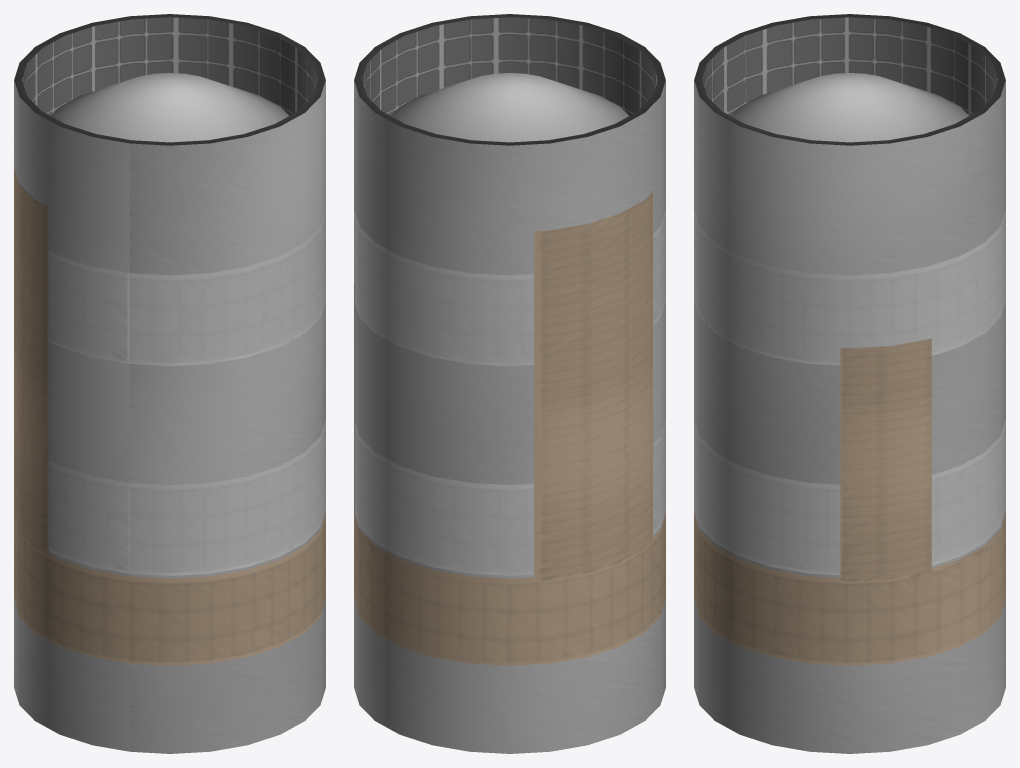
The model's file is TITAN_III_A_2.obj.
3 views of the same model, side by side, from view 1: azimuth 30°, elevation 25°; view 2: azimuth 150°, elevation 25°; view 3: azimuth 270°, elevation 25° (orthographic).
Visible parts, largest first — view 1: Cylinder1; view 2: Cylinder1; view 3: Cylinder1.
Part boxes in pixels (box(x1,y1,x2,y2)): Cylinder1: box(14, 14, 325, 753); Cylinder1: box(354, 14, 665, 753); Cylinder1: box(694, 14, 1005, 753).
Size of the model in its own units: 3 by 6.46 by 3.
